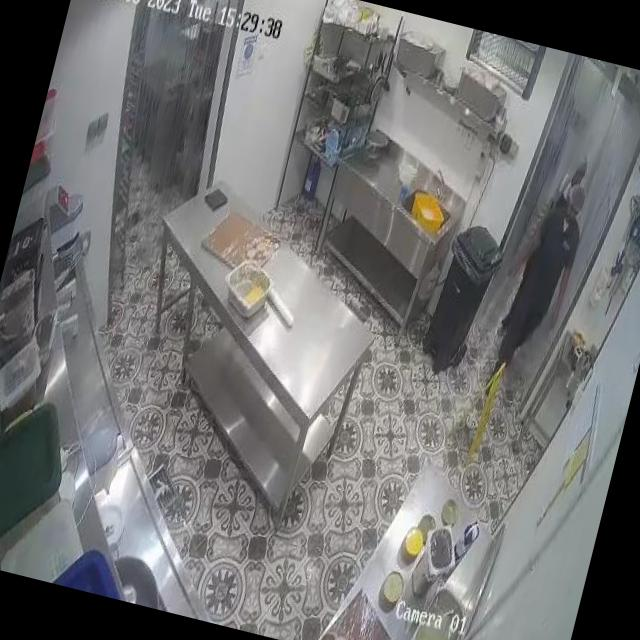hairnet: (567, 183, 588, 210)
